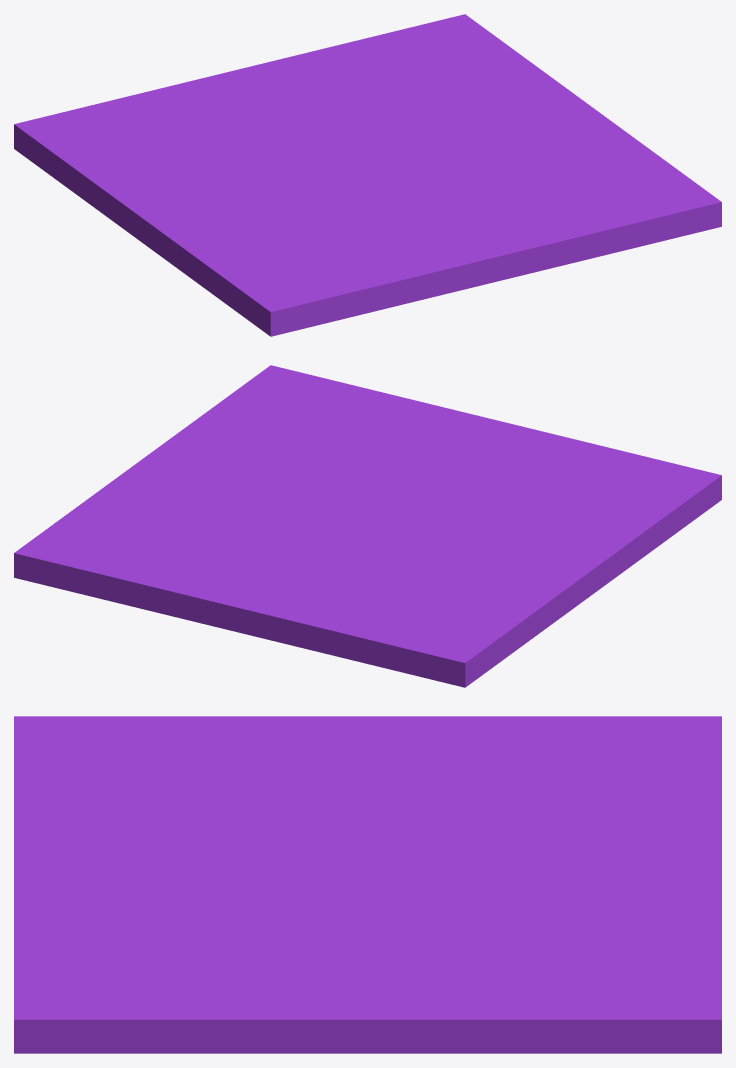
The model's file is Window_19_chunks.fbx.
The picture shows the model from 3 angles, top to bottom: view 1: azimuth 30°, elevation 25°; view 2: azimuth 150°, elevation 25°; view 3: azimuth 270°, elevation 25°; orthographic projection. The views are drawn at different scales.
Parts seen in each view (by area): view 1: Window_19_43, Window_19_14, Window_19_6, Window_19_17, Window_19_28, Window_19_16, Window_19_8, Window_19_9, Window_19_41, Window_19_34, Window_19_36, Window_19_33 (+26 smaller); view 2: Window_19_28, Window_19_14, Window_19_16, Window_19_17, Window_19_6, Window_19_23, Window_19_43, Window_19_24, Window_19_9, Window_19_8, Window_19_34, Window_19_36 (+24 smaller); view 3: Window_19_34, Window_19_14, Window_19_28, Window_19_43, Window_19_36, Window_19_17, Window_19_9, Window_19_8, Window_19_45, Window_19_6, Window_19_33, Window_19_16 (+27 smaller).
Boxes of the visible parts, left/top/right/bottom form: Window_19_43: left=468, top=195, right=645, bottom=284; Window_19_14: left=57, top=99, right=236, bottom=166; Window_19_6: left=163, top=235, right=303, bottom=336; Window_19_17: left=99, top=166, right=242, bottom=247; Window_19_28: left=336, top=17, right=454, bottom=103; Window_19_16: left=14, top=114, right=144, bottom=218; Window_19_8: left=272, top=224, right=366, bottom=325; Window_19_9: left=156, top=201, right=356, bottom=250; Window_19_41: left=364, top=246, right=484, bottom=306; Window_19_34: left=562, top=134, right=709, bottom=196; Window_19_36: left=526, top=102, right=628, bottom=170; Window_19_33: left=415, top=117, right=531, bottom=174; Window_19_28: left=21, top=522, right=243, bottom=607; Window_19_14: left=361, top=569, right=485, bottom=672; Window_19_16: left=403, top=594, right=560, bottom=687; Window_19_17: left=466, top=541, right=609, bottom=617; Window_19_6: left=596, top=469, right=721, bottom=566; Window_19_23: left=221, top=579, right=372, bottom=664; Window_19_43: left=339, top=383, right=472, bottom=449; Window_19_24: left=138, top=542, right=267, bottom=627; Window_19_9: left=499, top=487, right=615, bottom=567; Window_19_8: left=498, top=452, right=697, bottom=505; Window_19_34: left=177, top=374, right=314, bottom=439; Window_19_36: left=134, top=433, right=293, bottom=477; Window_19_34: left=46, top=960, right=344, bottom=1053; Window_19_14: left=484, top=745, right=721, bottom=825; Window_19_28: left=531, top=911, right=721, bottom=1012; Window_19_43: left=14, top=868, right=186, bottom=968; Window_19_36: left=212, top=946, right=390, bottom=1053; Window_19_17: left=328, top=716, right=512, bottom=789; Window_19_9: left=186, top=716, right=346, bottom=820; Window_19_8: left=14, top=732, right=201, bottom=823; Window_19_45: left=513, top=965, right=721, bottom=1053; Window_19_6: left=14, top=716, right=304, bottom=758; Window_19_33: left=252, top=901, right=386, bottom=982; Window_19_16: left=486, top=716, right=721, bottom=753.
Size of the model in its own units: 1165 by 60.81 by 1149.
